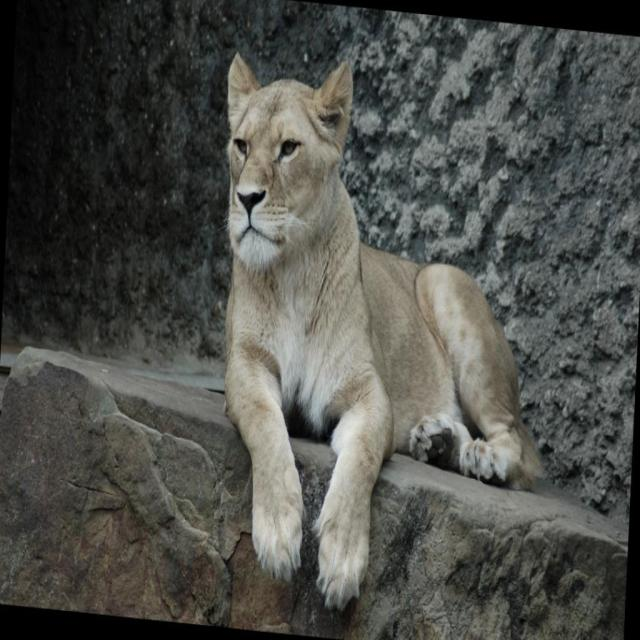Lion: (200, 48, 562, 633)
